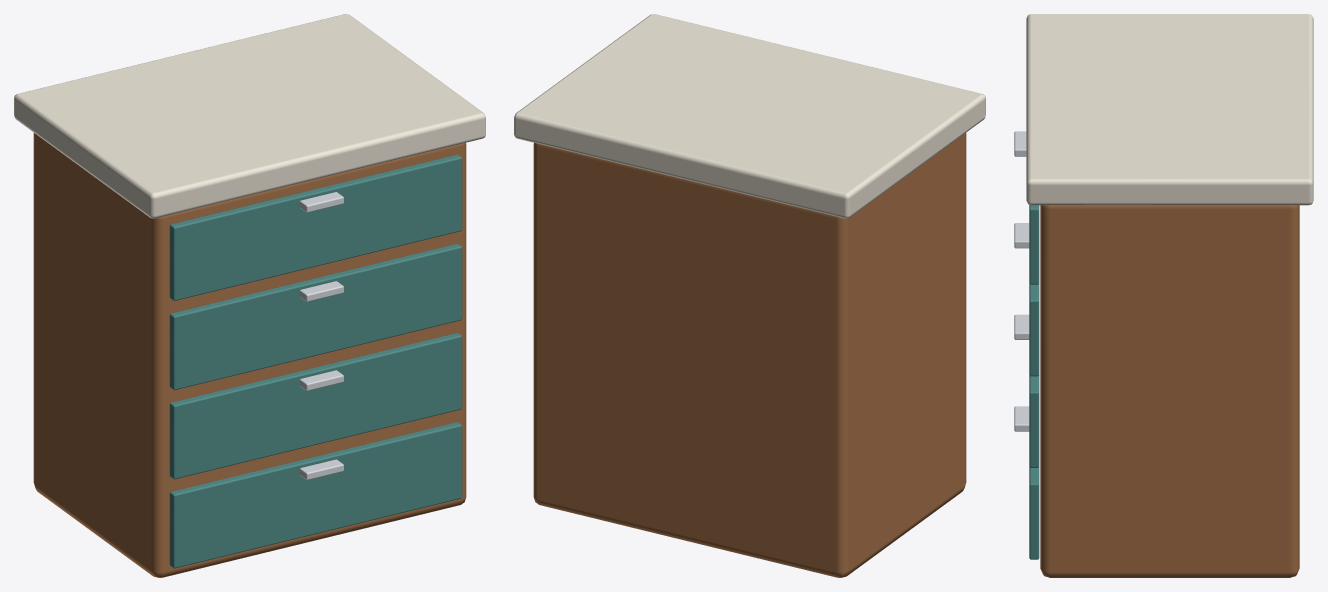
The model's file is wp-meuble-a-tiroirs.glb.
3 views of the same model, side by side, from view 1: azimuth 30°, elevation 25°; view 2: azimuth 150°, elevation 25°; view 3: azimuth 270°, elevation 25° (orthographic). The views are drawn at different scales.
Parts seen in each view (by area): view 1: wp-meuble-a-tiroirs; view 2: wp-meuble-a-tiroirs; view 3: wp-meuble-a-tiroirs.
Boxes of the visible parts, x1=… form: wp-meuble-a-tiroirs: x1=14, y1=14, x2=485, y2=577; wp-meuble-a-tiroirs: x1=514, y1=14, x2=985, y2=577; wp-meuble-a-tiroirs: x1=1014, y1=14, x2=1313, y2=577.
Bounding box in the file's own units: 0.8 × 0.9 × 0.6.
